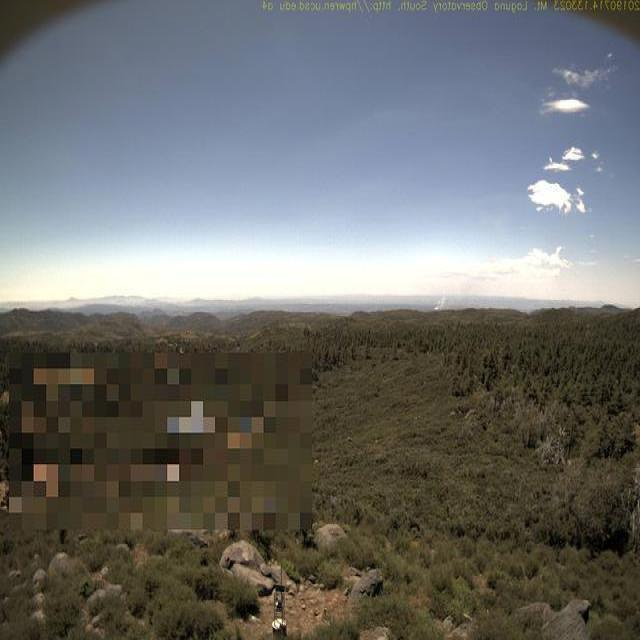Smoke: (429, 281, 453, 312)
